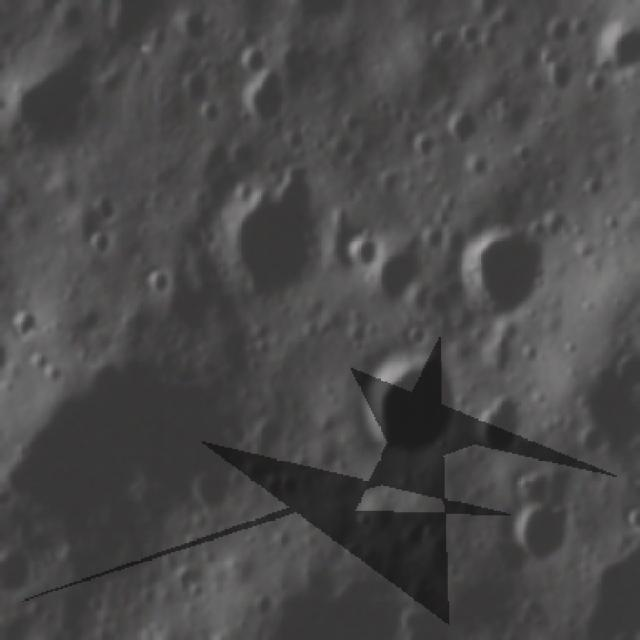crater: (5, 353, 234, 533), (217, 178, 326, 308), (349, 356, 462, 466), (1, 43, 96, 159), (448, 224, 547, 331), (507, 493, 576, 573), (364, 244, 428, 316), (470, 389, 527, 463), (238, 61, 291, 128), (186, 463, 246, 522), (590, 10, 638, 76), (441, 96, 488, 155), (246, 408, 294, 458), (534, 57, 580, 106), (338, 228, 385, 275), (76, 227, 121, 268), (136, 263, 176, 308), (0, 545, 35, 596), (170, 7, 212, 47), (574, 418, 614, 459), (423, 22, 462, 62), (538, 10, 574, 53), (404, 131, 438, 174), (370, 165, 408, 202), (6, 303, 45, 337), (193, 92, 224, 134), (89, 193, 122, 227), (585, 60, 612, 98), (576, 172, 607, 205), (487, 351, 518, 380), (248, 590, 275, 622), (339, 109, 367, 138), (455, 21, 480, 53), (341, 148, 370, 175), (510, 136, 536, 162), (26, 348, 52, 372), (368, 95, 394, 119)
